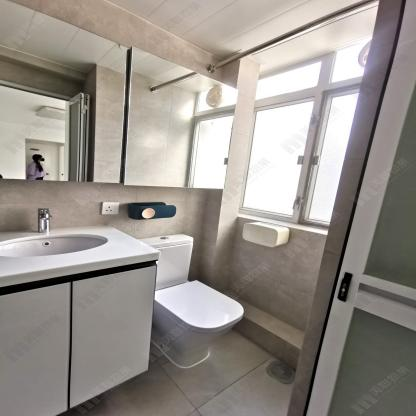Toilet: (135, 233, 243, 367)
Toilet Sink: (0, 225, 160, 288)
